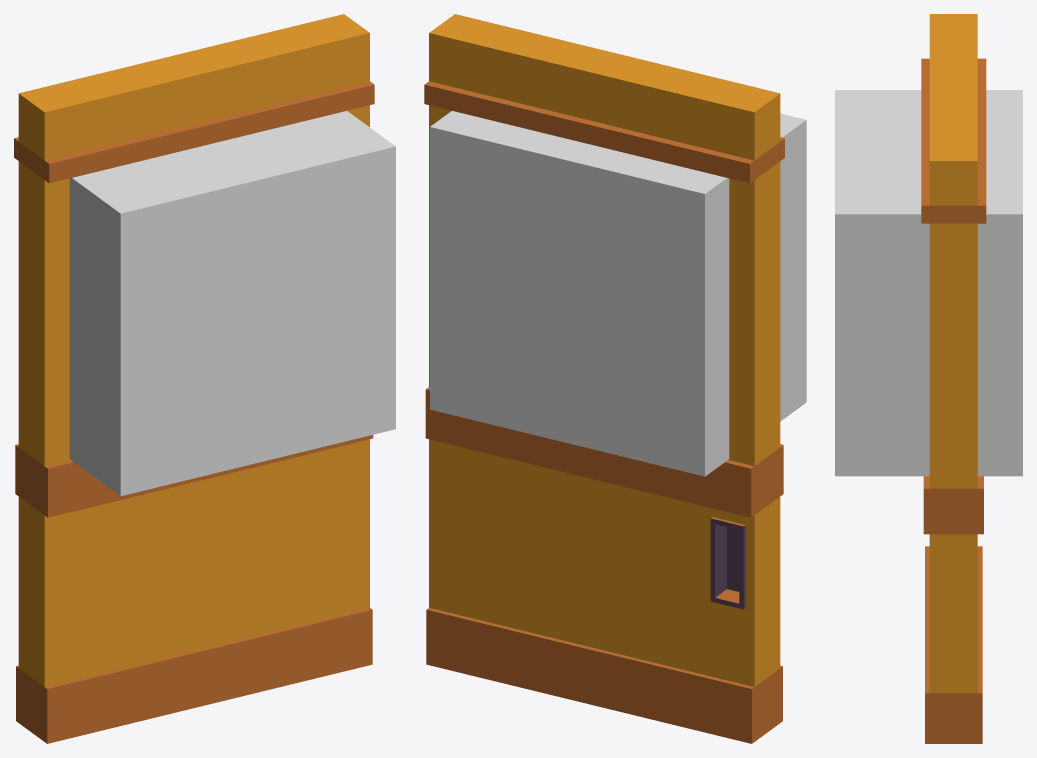
File: door.fbx
3 renders of one model, left to right at view 1: azimuth 30°, elevation 25°; view 2: azimuth 150°, elevation 25°; view 3: azimuth 270°, elevation 25°, orthographic. The views are drawn at different scales.
Visible parts, largest first — view 1: Cube.010, Cube.011; view 2: Cube.010, Cube.011; view 3: Cube.011, Cube.010.
Part boxes in pixels (x1,y1,x2,y2): Cube.010: (14,14,374,743); Cube.011: (69,111,395,496); Cube.010: (424,14,784,743); Cube.011: (430,111,806,476); Cube.011: (835,90,1022,476); Cube.010: (921,14,986,743).
Bounding box in the file's own units: 3599 × 6655 × 1942.
